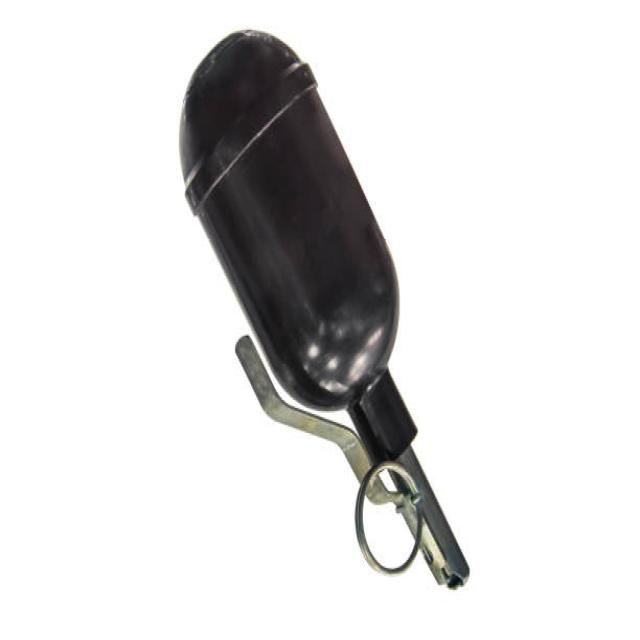grenade: (172, 26, 473, 602)
